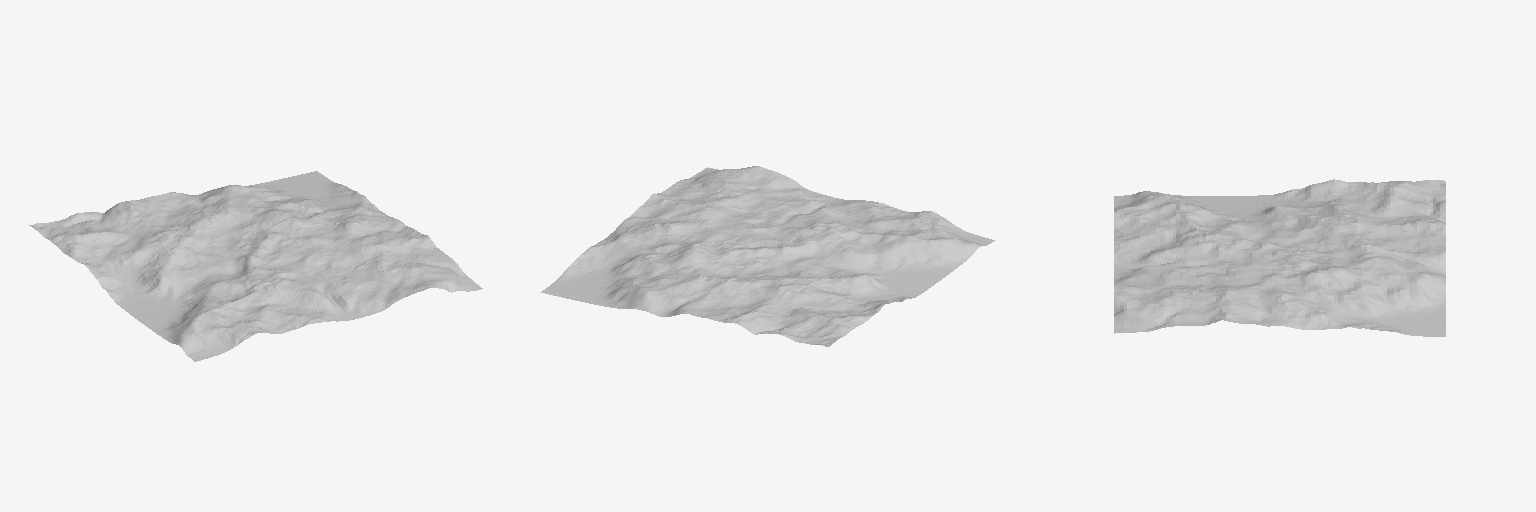
Rendered from grassTest.obj.
3 views of the same model, side by side, from view 1: azimuth 30°, elevation 25°; view 2: azimuth 150°, elevation 25°; view 3: azimuth 270°, elevation 25° (orthographic).
Parts seen in each view (by area): view 1: small_Plane; view 2: small_Plane; view 3: small_Plane.
Part boxes in pixels (x1,y1,x2,y2): small_Plane: (29, 171, 482, 361); small_Plane: (541, 166, 994, 346); small_Plane: (1114, 179, 1445, 336).
Size of the model in its own units: 800 by 57.72 by 800.